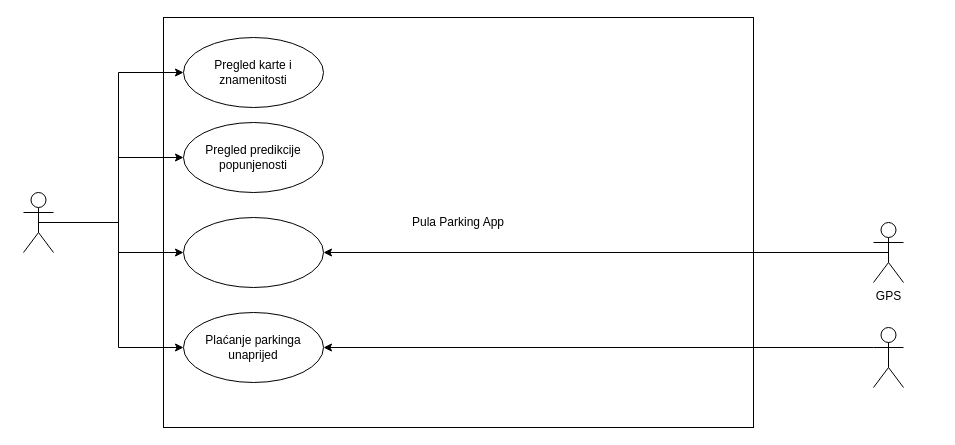
Some shapes in this 955 by 445 pixel diagram are drawn without their labels. Here are the shapes that lost their labels. From the top down, the centre of each, then its label:
(38,222): Korisnik
(253,252): Izračun očekivanog vremena vožnje
(888,357): Payment Gateway
